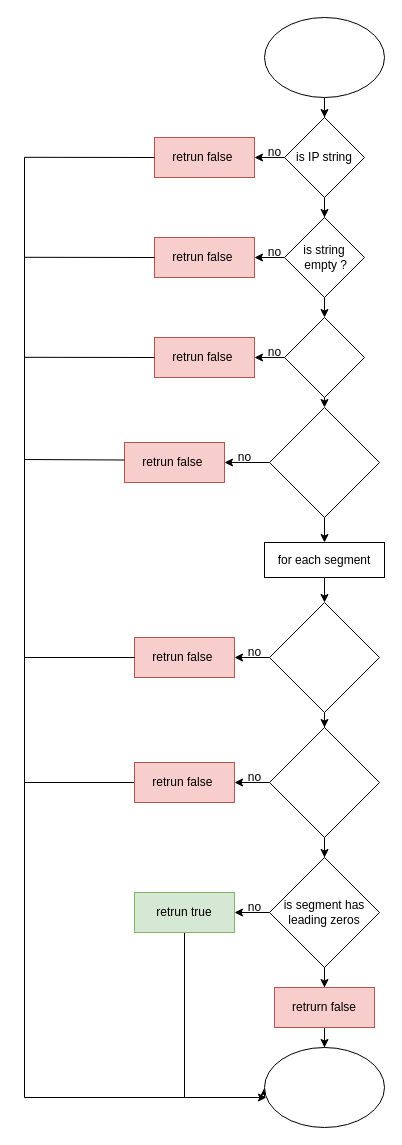
The diagram is 402 pixels wide and 1145 high, and some of its shapes have lost their labels. Here are the shapes that lost their labels. From the top down, the centre of each, then its label:
point (324, 57): start
point (324, 357): is string has white spaces ?
point (324, 462): is string has exactly 4 segments
point (324, 657): is segment has special charchtars?
point (324, 782): is segment in range 0 to 255
point (324, 1087): end
